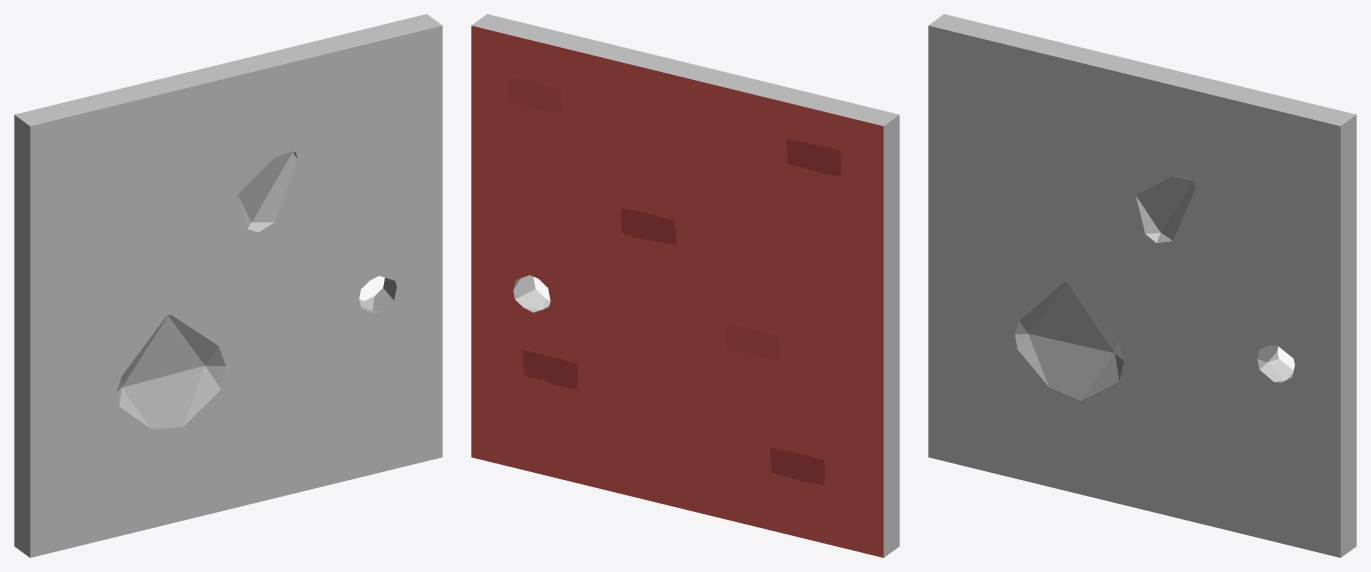
File: Wh_Brick_Wall_Holes.fbx
The picture shows the model from 3 angles, left to right: view 1: azimuth 30°, elevation 25°; view 2: azimuth 150°, elevation 25°; view 3: azimuth 330°, elevation 25°; orthographic projection.
Visible parts, largest first — view 1: Cube.010; view 2: Cube.010; view 3: Cube.010.
Part boxes in pixels (bbox=[...]): Cube.010: bbox=[14, 14, 442, 557]; Cube.010: bbox=[471, 14, 899, 557]; Cube.010: bbox=[928, 14, 1356, 557].
Size of the model in its own units: 300 by 300 by 20.
